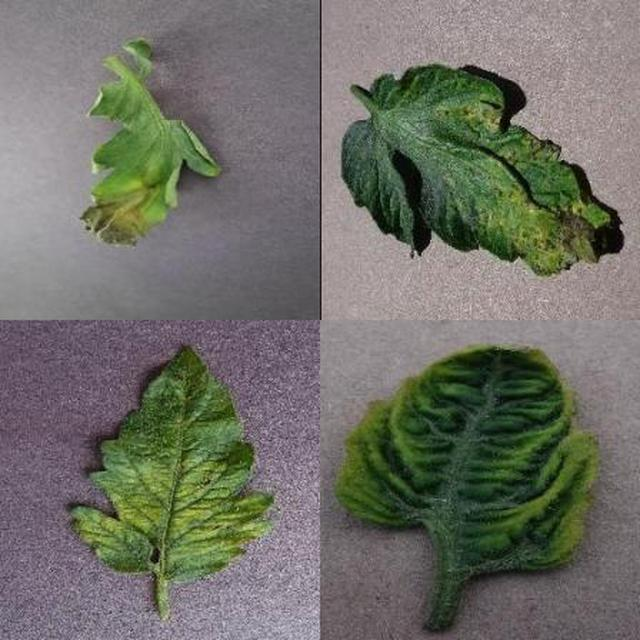Late Blight Leaf: (204, 235, 640, 640)
